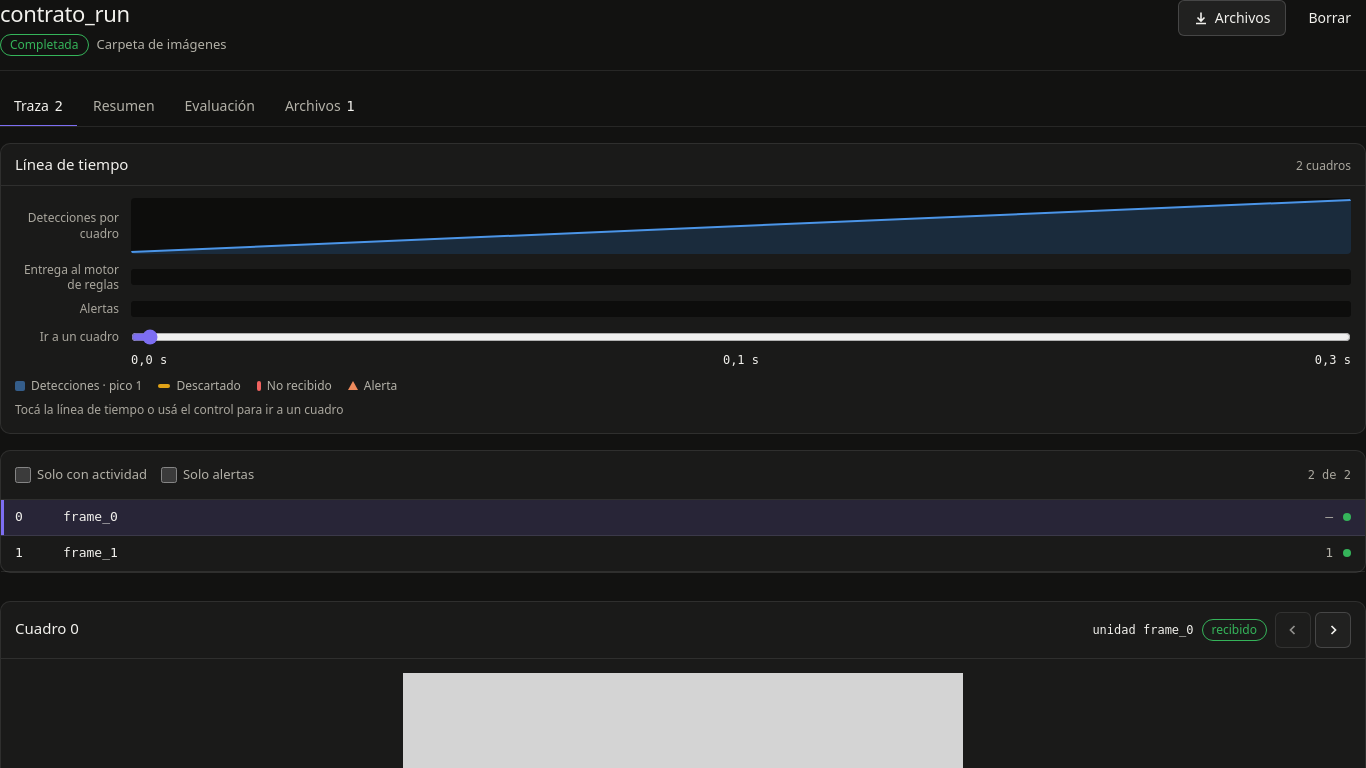
Test case: actualiza los archivos después de evaluar sin recargar el detalle
This screenshot has width=1366, height=768.
Click the tab "Archivos 1" at (320, 106), box top-left (271, 86), bottom-right (369, 126)
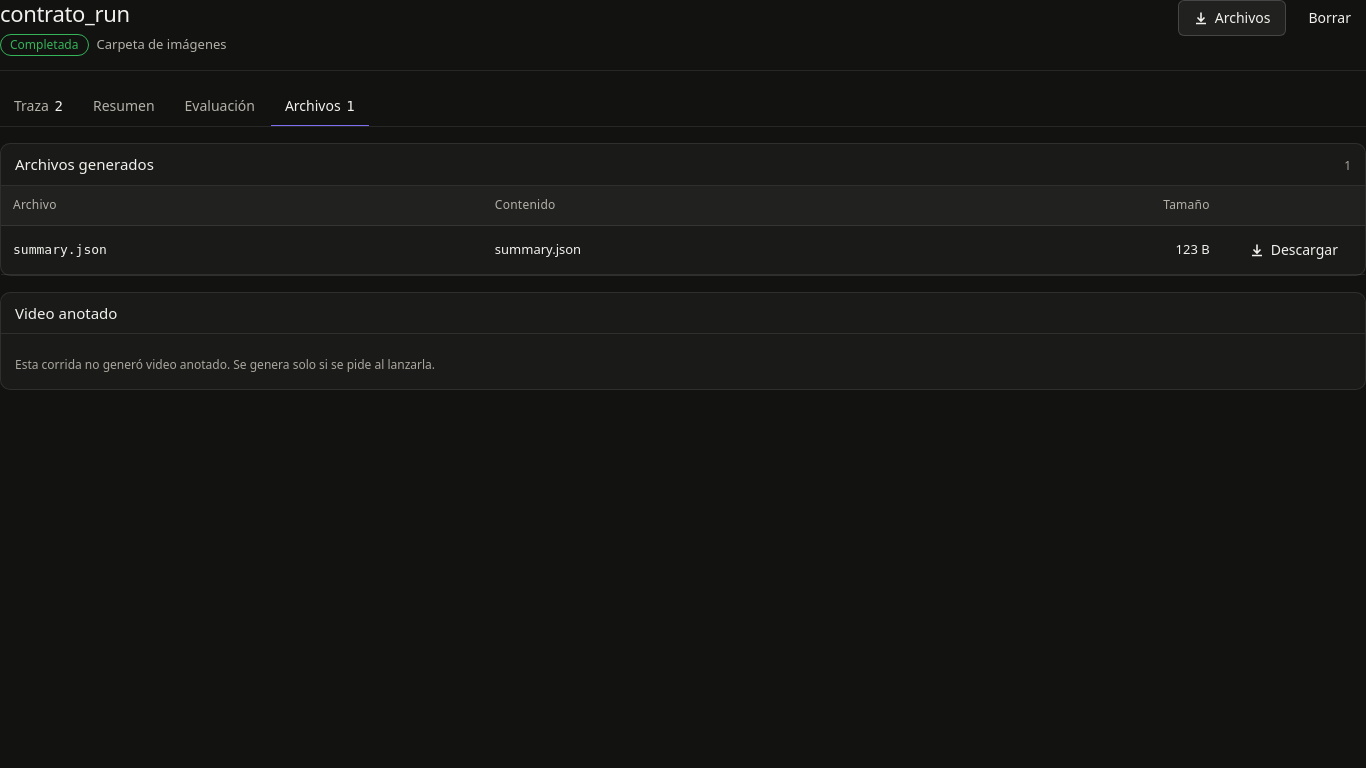
Expected: the link "Descargar eval_perception.json" is not shown
Now the link with aria-label "Descargar summary.json" is shown, box top-left (1249, 240), bottom-right (1338, 259)
Click the tab "Evaluación" at (220, 106), box top-left (171, 86), bottom-right (269, 126)
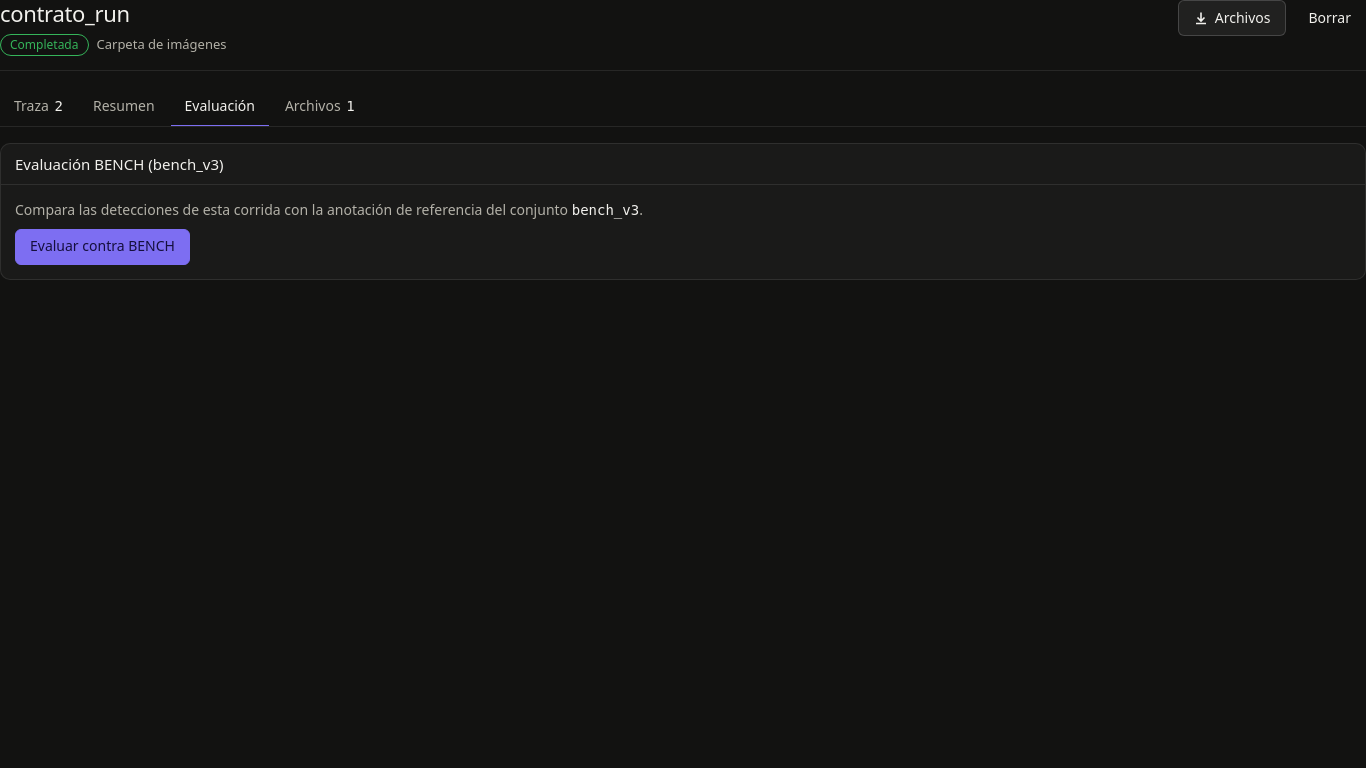
Click the button "Evaluar contra BENCH" at (102, 247), box top-left (15, 229), bottom-right (190, 265)
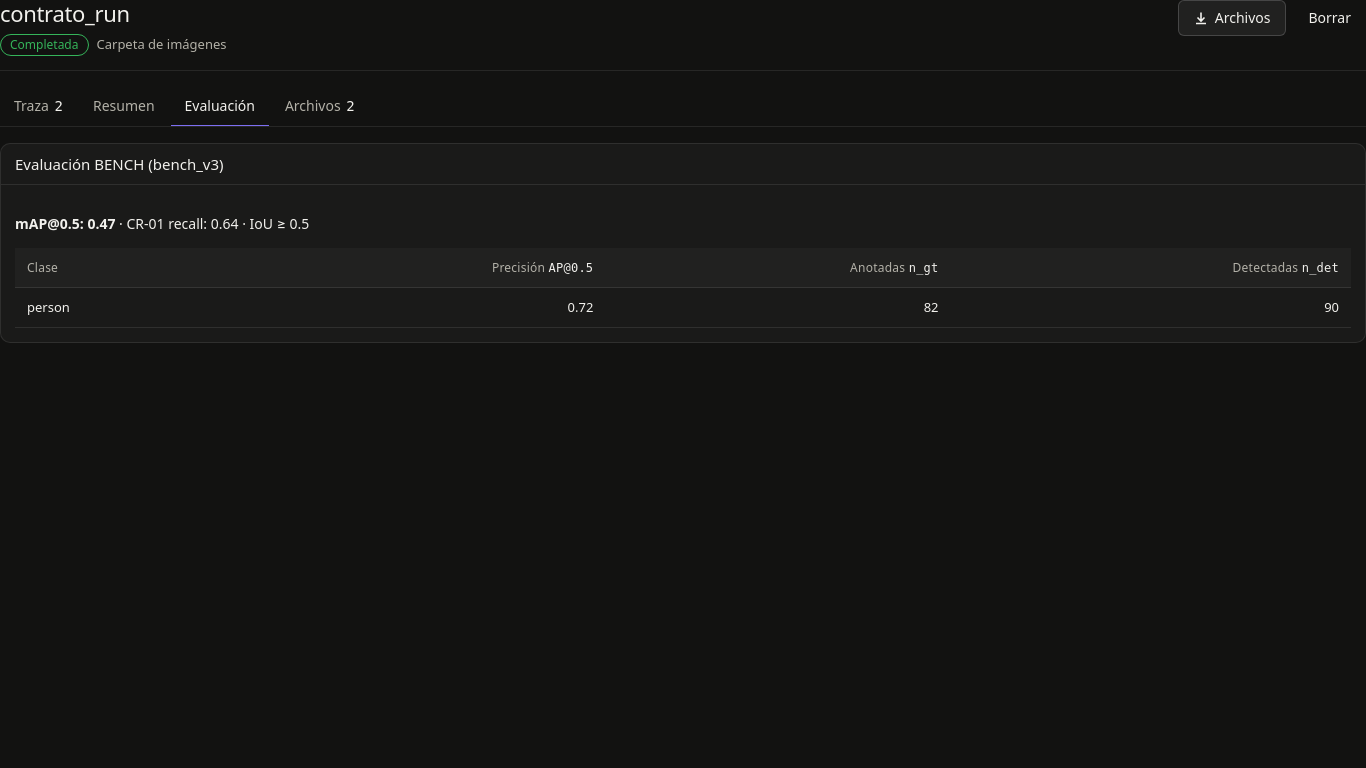
Now the text "mAP@0.5: 0.47" is shown, box top-left (15, 214), bottom-right (115, 233)
Click the tab "Archivos 2" at (320, 106), box top-left (271, 86), bottom-right (369, 126)
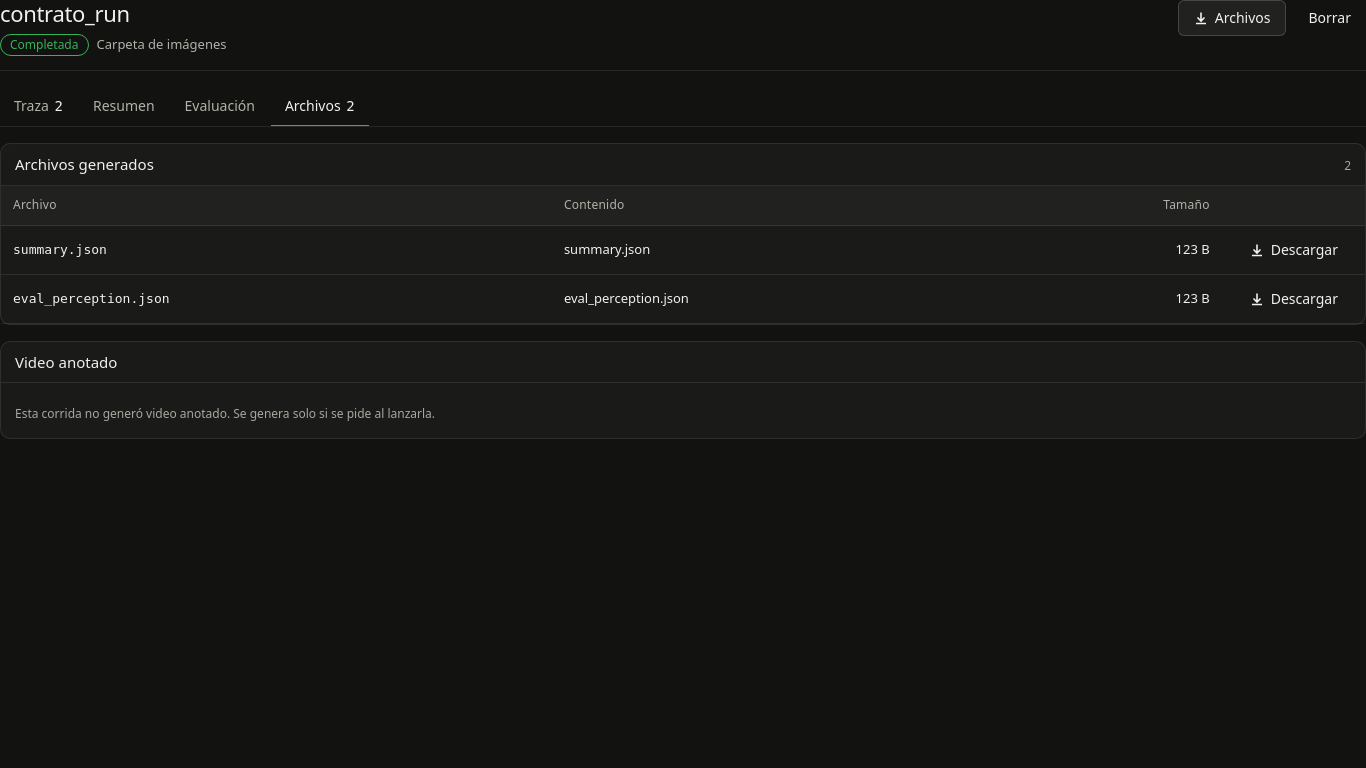
Now the link with aria-label "Descargar eval_perception.json" is shown, box top-left (1249, 289), bottom-right (1338, 308)
